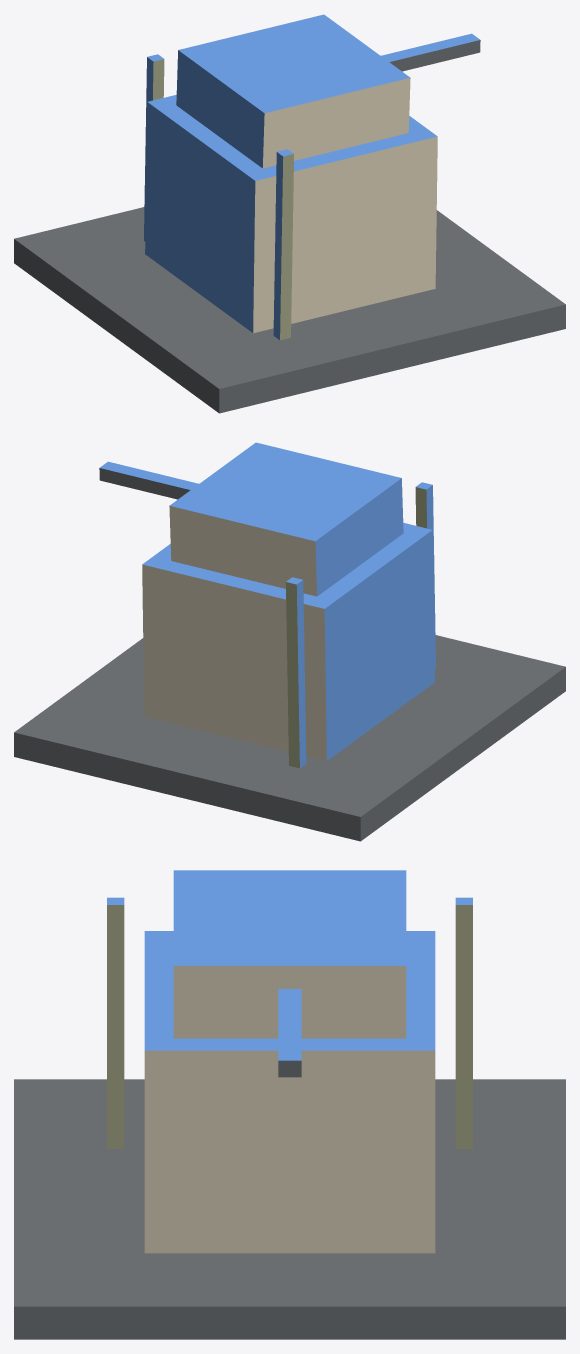
Rendered from meridian_decoy_emplacement_damaged.glb.
3 views of the same model, one above another, from view 1: azimuth 30°, elevation 25°; view 2: azimuth 150°, elevation 25°; view 3: azimuth 270°, elevation 25° (orthographic). The views are drawn at different scales.
Parts seen in each view (by area): view 1: hull, turret, barrel; view 2: hull, turret, barrel; view 3: hull, turret, barrel.
Part boxes in pixels (x1,y1,x2,y2): hull: (14,54,565,413); turret: (176,14,410,168); barrel: (381,33,480,71); hull: (14,482,565,841); turret: (169,442,403,596); barrel: (99,461,198,499); hull: (14,897,565,1339); turret: (173,870,406,1038); barrel: (278,989,301,1077).
Size of the model in its own units: 3.84 by 2.36 by 3.8.
